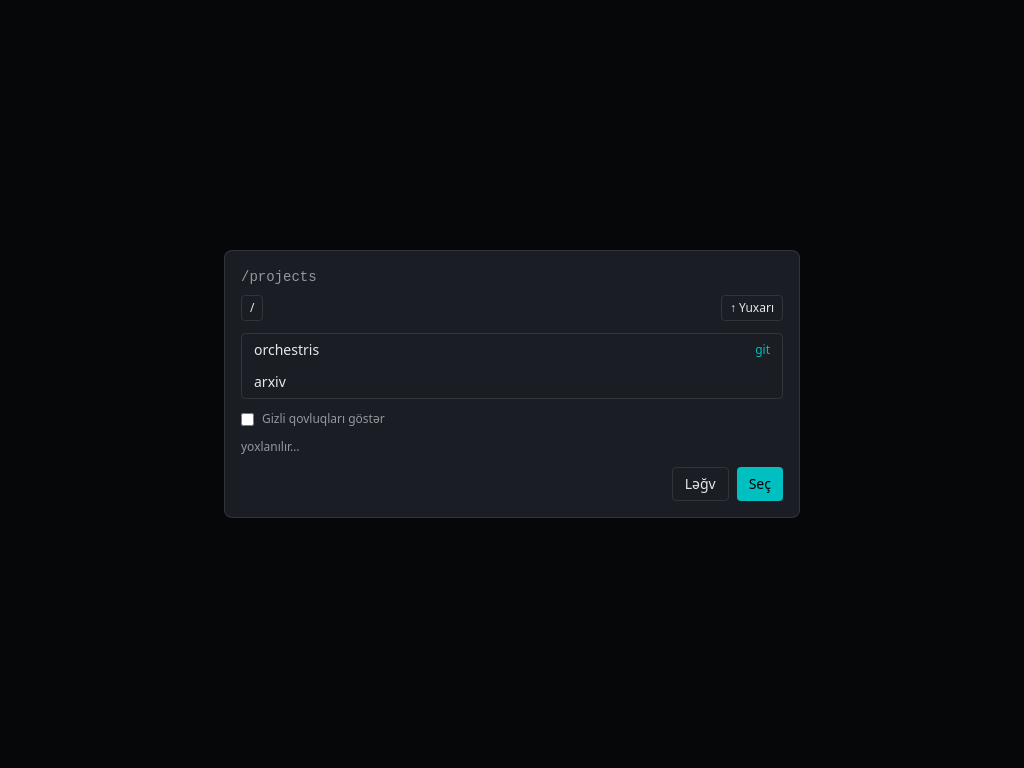
Test: FolderPicker › keçid açılanda gizli qovluq görünür
The width and height of the screenshot is (1024, 768).
expect the text "orchestris" is shown: met, box [254,340,319,360]
Click the checkbox labelled "Gizli qovluqları göstər" at {"x": 248, "y": 419}, box [241,412,254,426]
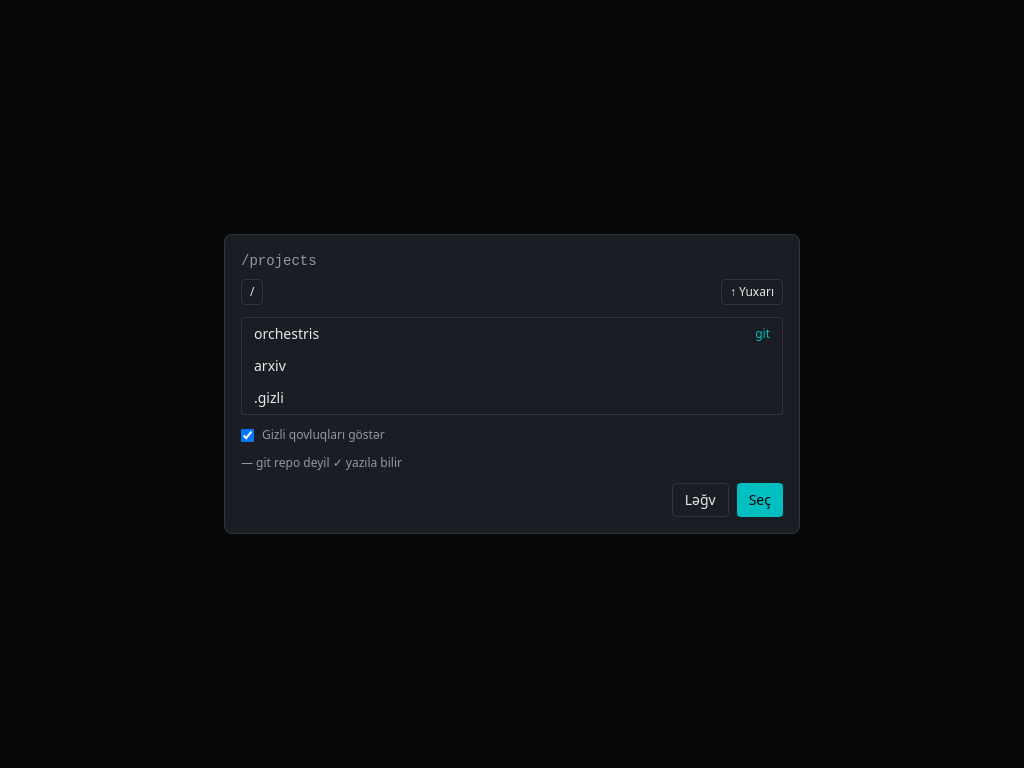
expect the text ".gizli" is shown: met, box [254,388,284,408]
